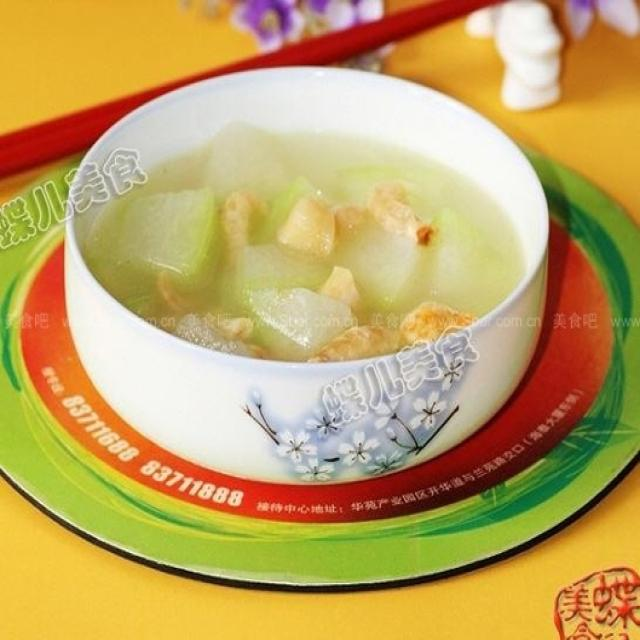汤锅炖物: (57, 56, 559, 463)
